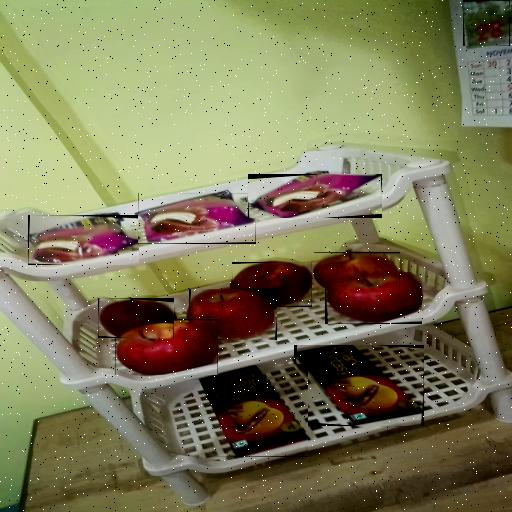Apple: (115, 319, 218, 375), (325, 272, 422, 324), (189, 290, 277, 342), (232, 262, 312, 307), (314, 252, 400, 289), (98, 298, 174, 338)
Choco Fills: (294, 346, 424, 428), (202, 365, 308, 457), (463, 0, 510, 46)
Choco Pie: (138, 193, 256, 244), (248, 174, 382, 218), (28, 215, 139, 265)
